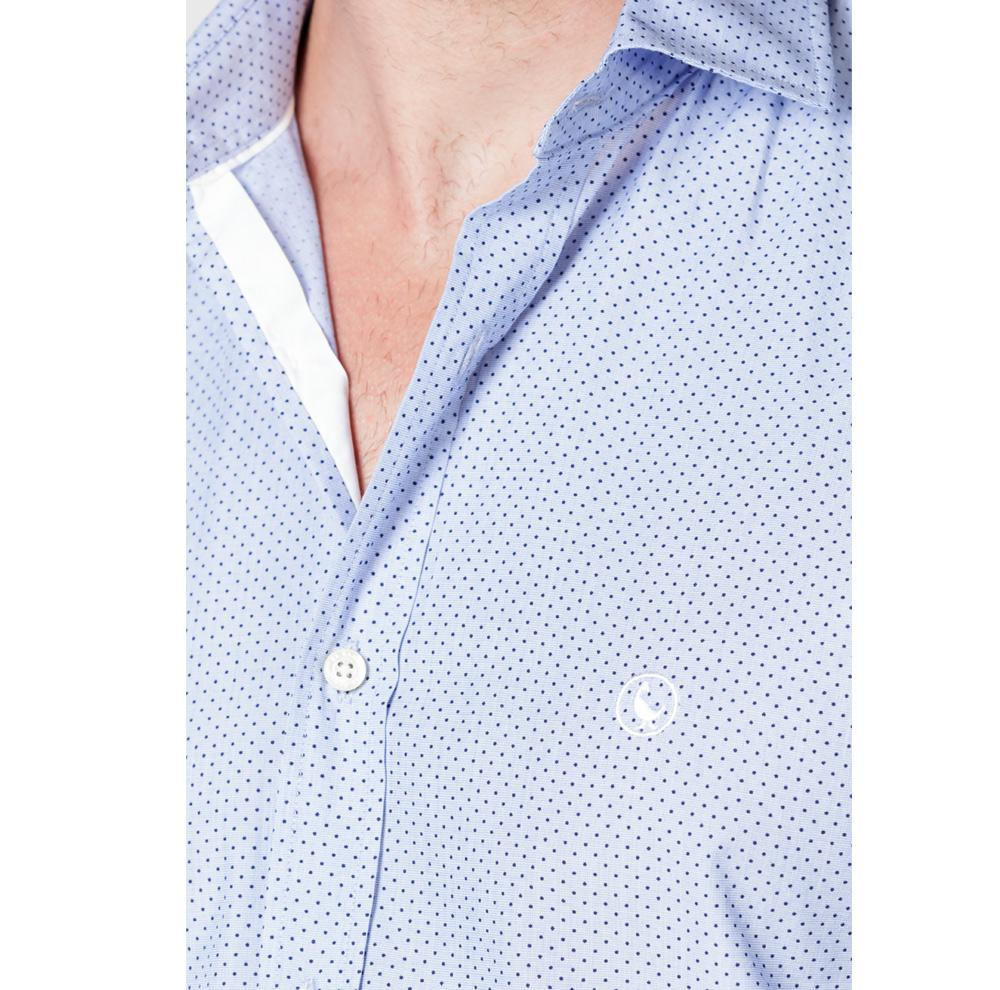teeshirt: (189, 1, 845, 988)
